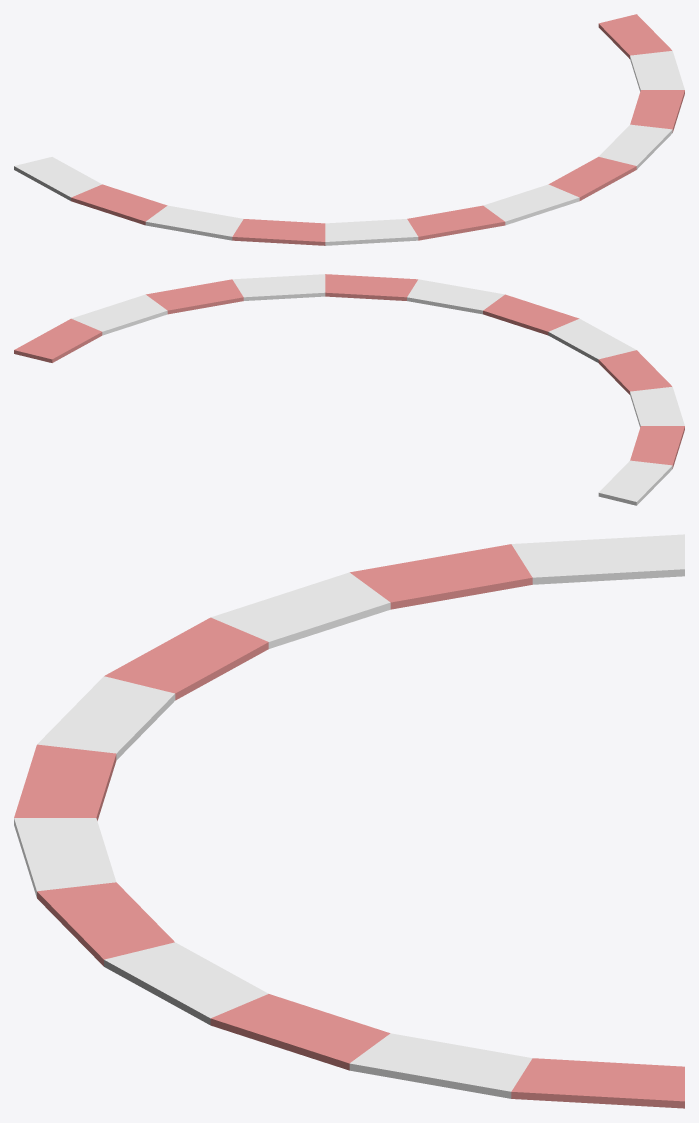
File: road-half-circle-border.glb
3 views of the same model, one above another, from view 1: azimuth 30°, elevation 25°; view 2: azimuth 150°, elevation 25°; view 3: azimuth 270°, elevation 25° (orthographic). The views are drawn at different scales.
Visible parts, largest first — view 1: roadHalfCircleBorder; view 2: roadHalfCircleBorder; view 3: roadHalfCircleBorder.
Boxes of the visible parts, x1=… form: roadHalfCircleBorder: x1=14, y1=14, x2=684, y2=245; roadHalfCircleBorder: x1=14, y1=274, x2=684, y2=505; roadHalfCircleBorder: x1=14, y1=534, x2=684, y2=1108.
Size of the model in its own units: 20.52 by 0.1202 by 10.26.
